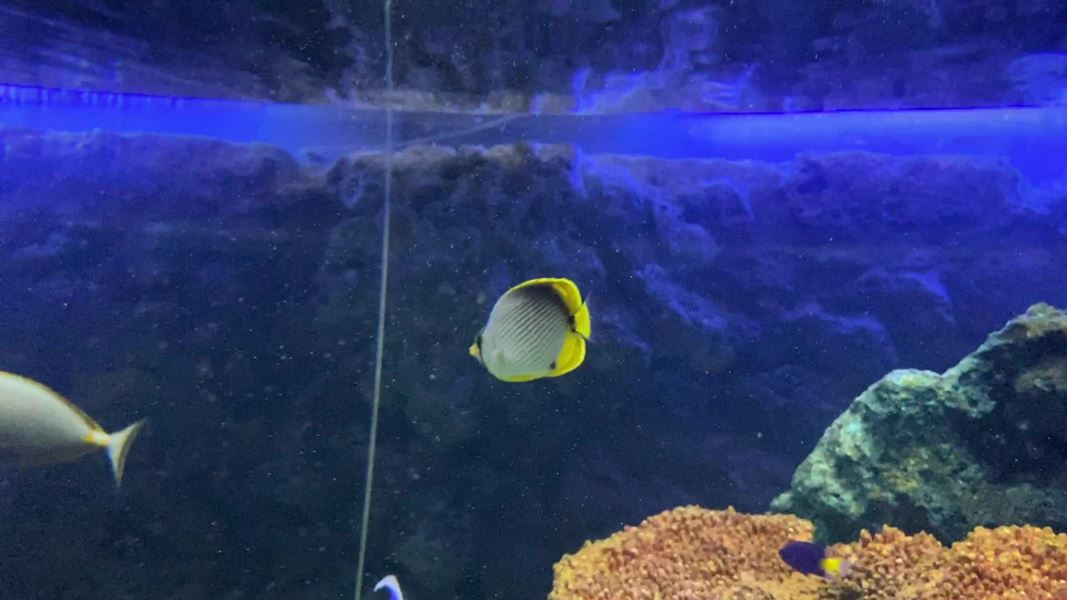Black-backed butterflyfish: (460, 269, 615, 392)
